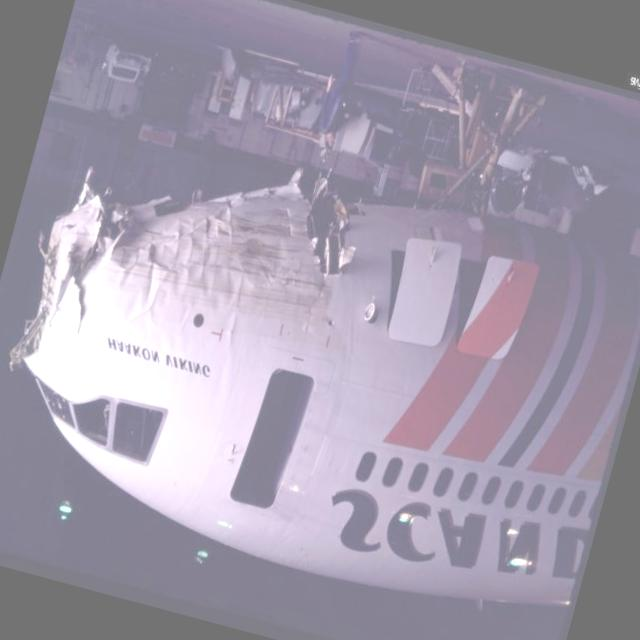crack: (45, 236, 108, 338), (292, 270, 329, 336)
dent: (92, 144, 308, 358)
